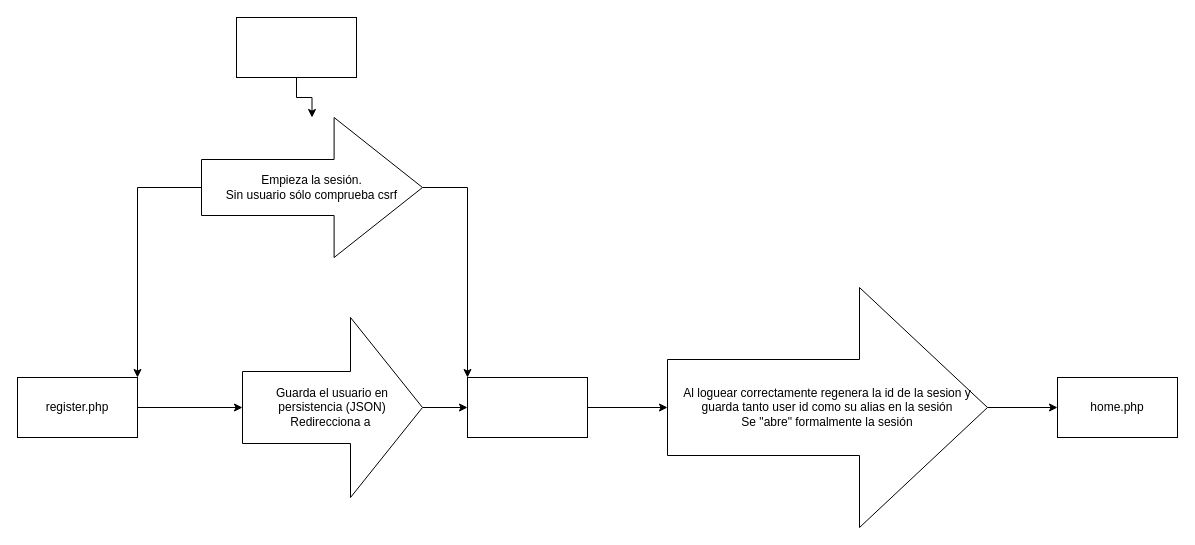
Image size: 1195x545. Some labels were removed from this diagram. The shapes that lost their labels are listed below. From the top down, each one's centre as x and y in pixels, then its label:
At point 296,47: "sesion.php".
At point 527,407: "login.php".
